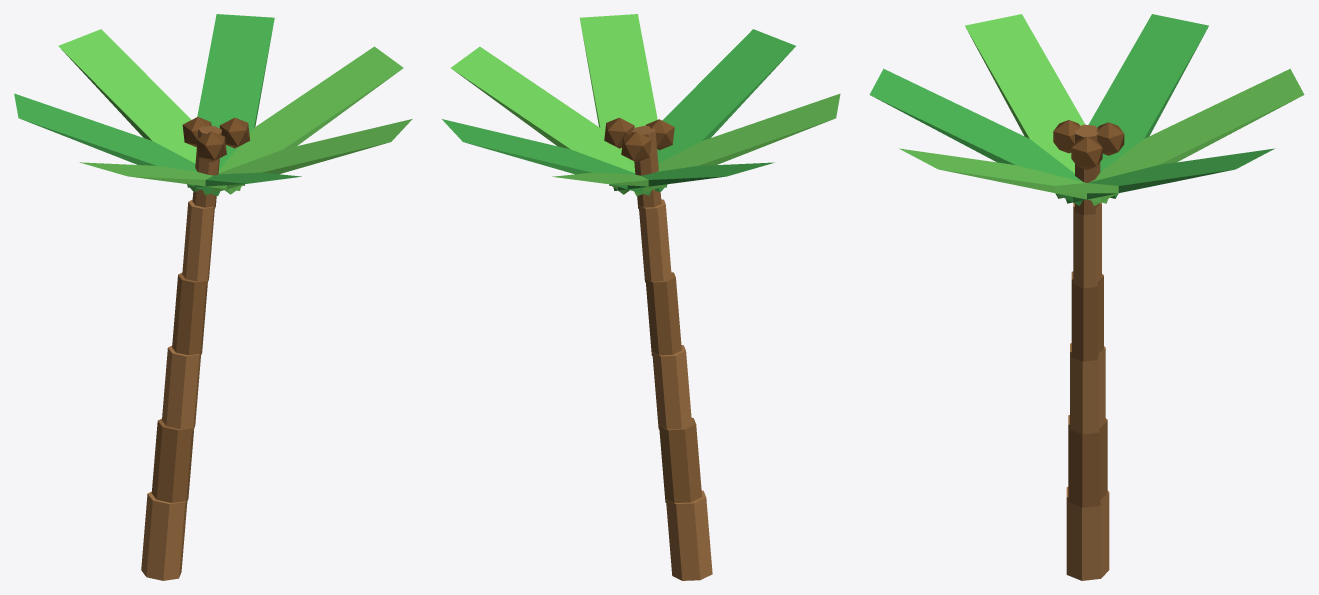
Rendered from PalmTree.fbx.
The picture shows the model from 3 angles, left to right: view 1: azimuth 30°, elevation 25°; view 2: azimuth 150°, elevation 25°; view 3: azimuth 270°, elevation 25°; orthographic projection. The views are drawn at different scales.
Parts seen in each view (by area): view 1: PalmTree; view 2: PalmTree; view 3: PalmTree.
Part boxes in pixels (box(x1,y1,x2,y2)): PalmTree: box(14, 14, 412, 580); PalmTree: box(442, 14, 840, 580); PalmTree: box(869, 14, 1304, 580).
Size of the model in its own units: 16.04 by 20.79 by 16.45.
Materials: 1 (1 with a texture image).
